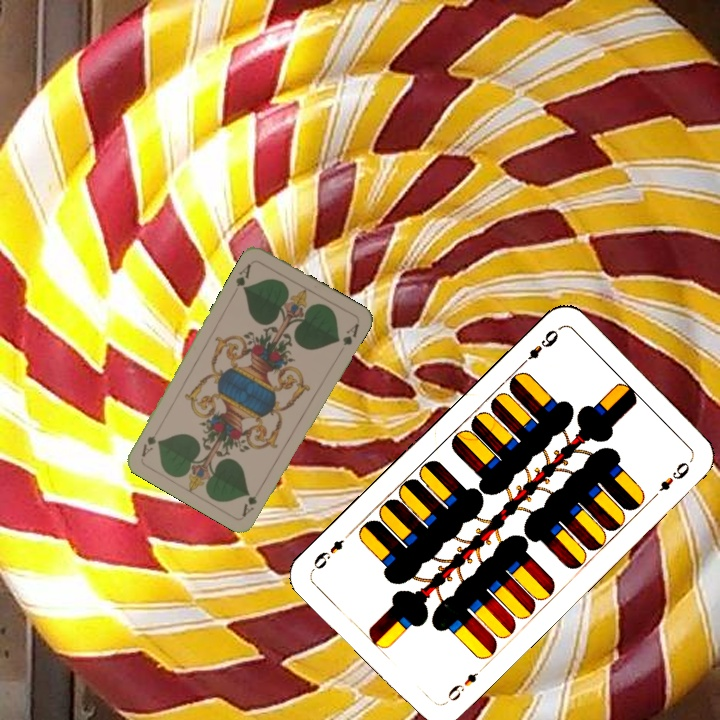E9: (516, 325, 561, 370), (440, 668, 481, 707)
GA: (231, 259, 254, 293), (238, 492, 260, 519)
